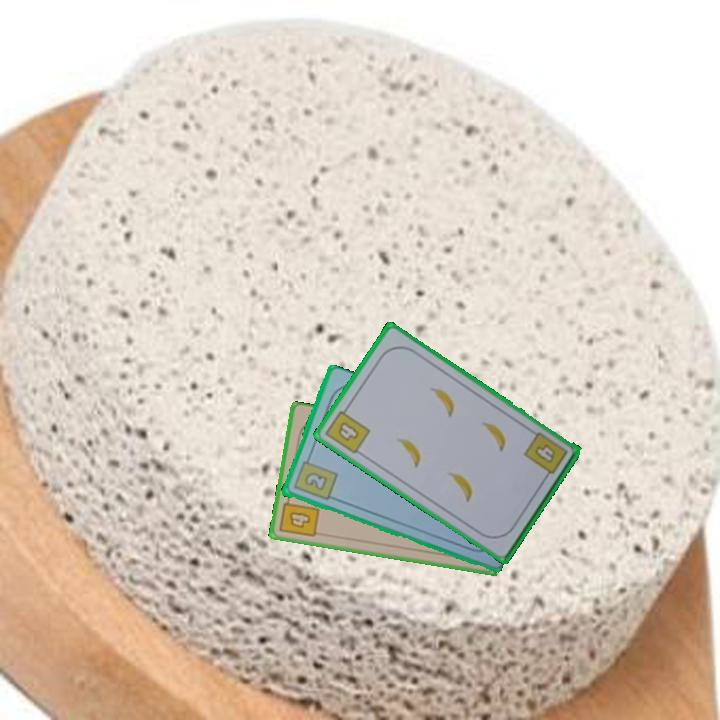2b: (290, 452, 339, 503)
4b: (321, 402, 373, 457), (276, 492, 322, 540), (531, 441, 556, 464)
